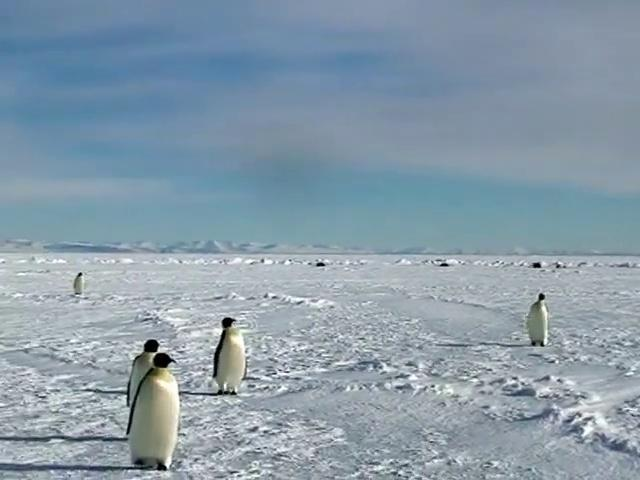animal: (214, 319, 247, 395)
